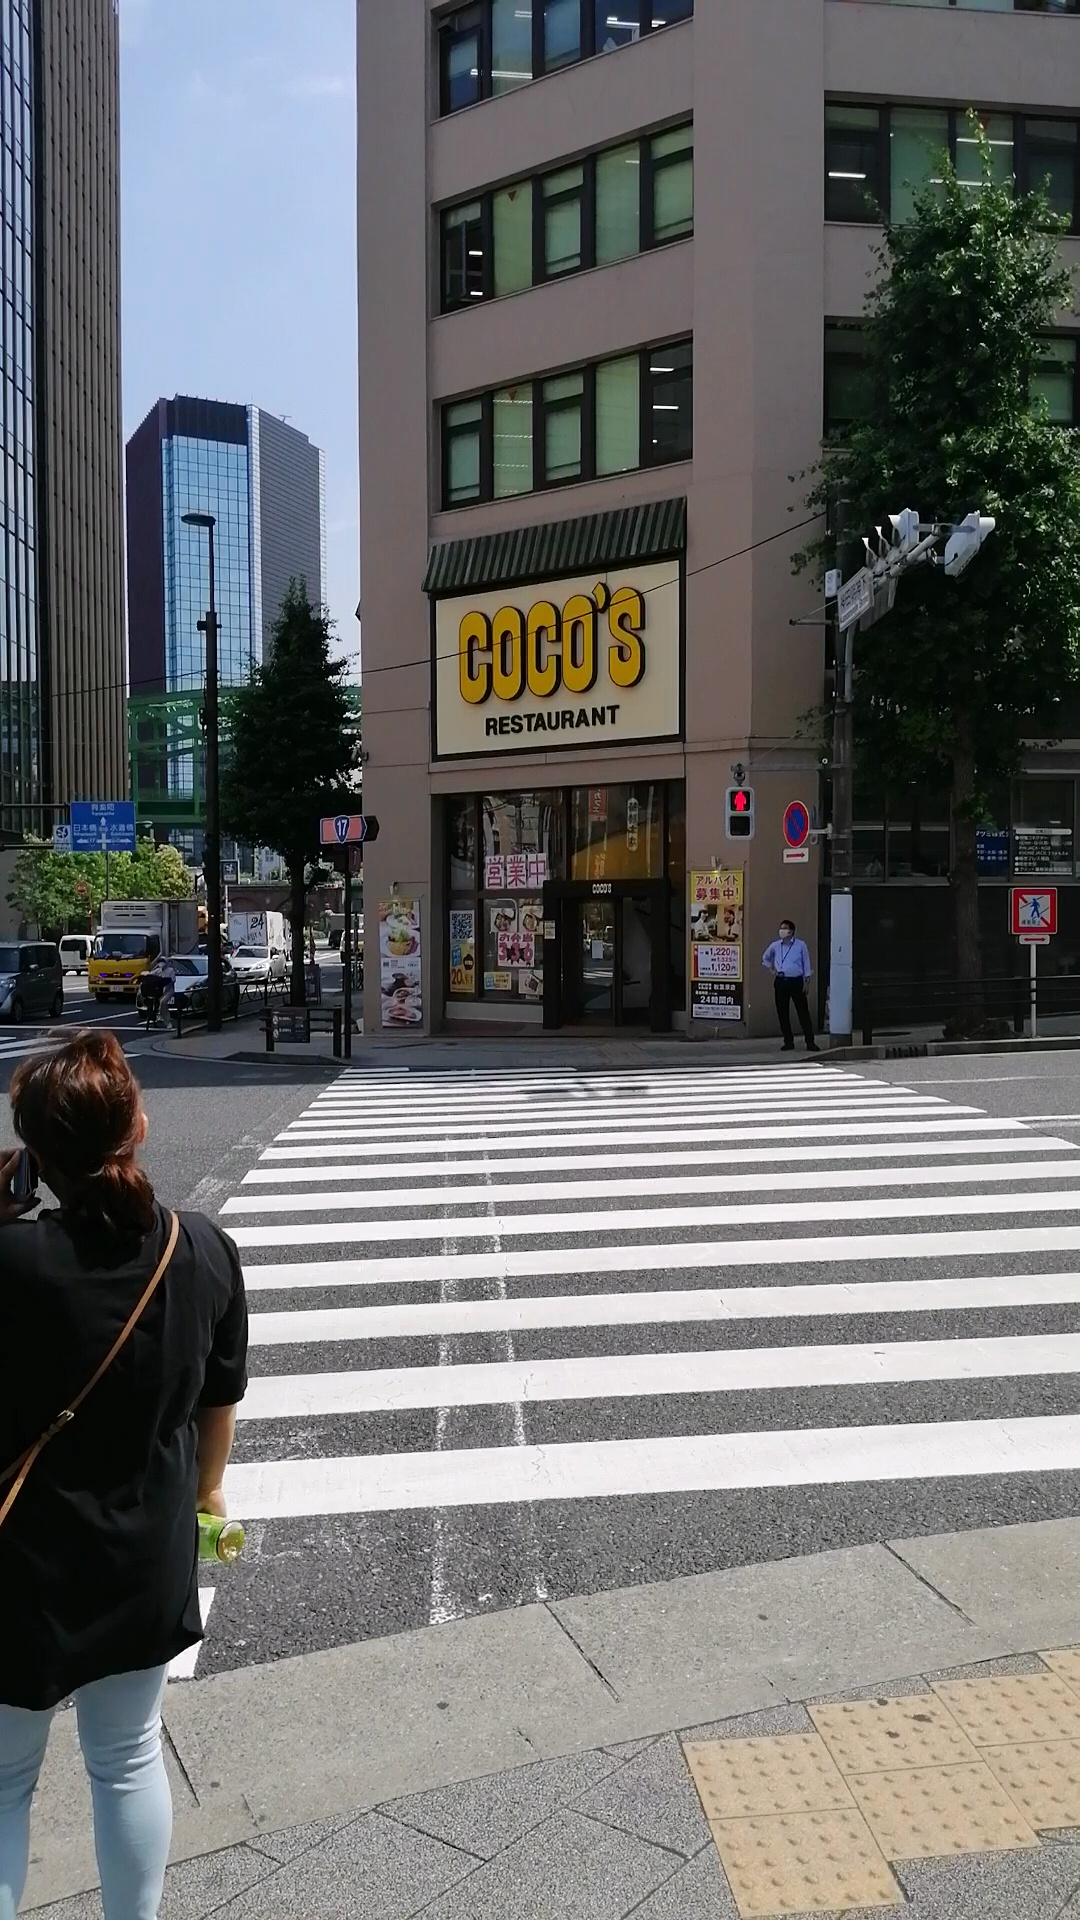red: (724, 785, 756, 841)
